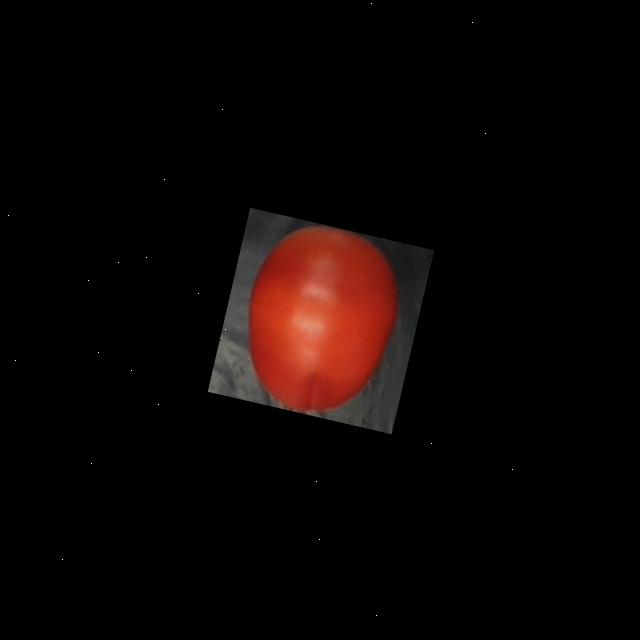tomato: (224, 211, 419, 430)
